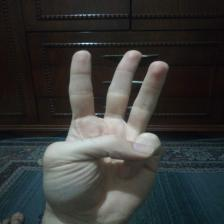five: (32, 43, 176, 221)
